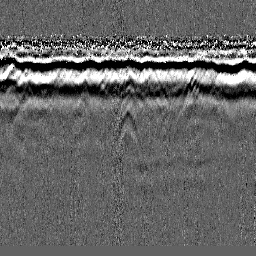cavity: (113, 104, 143, 147)
